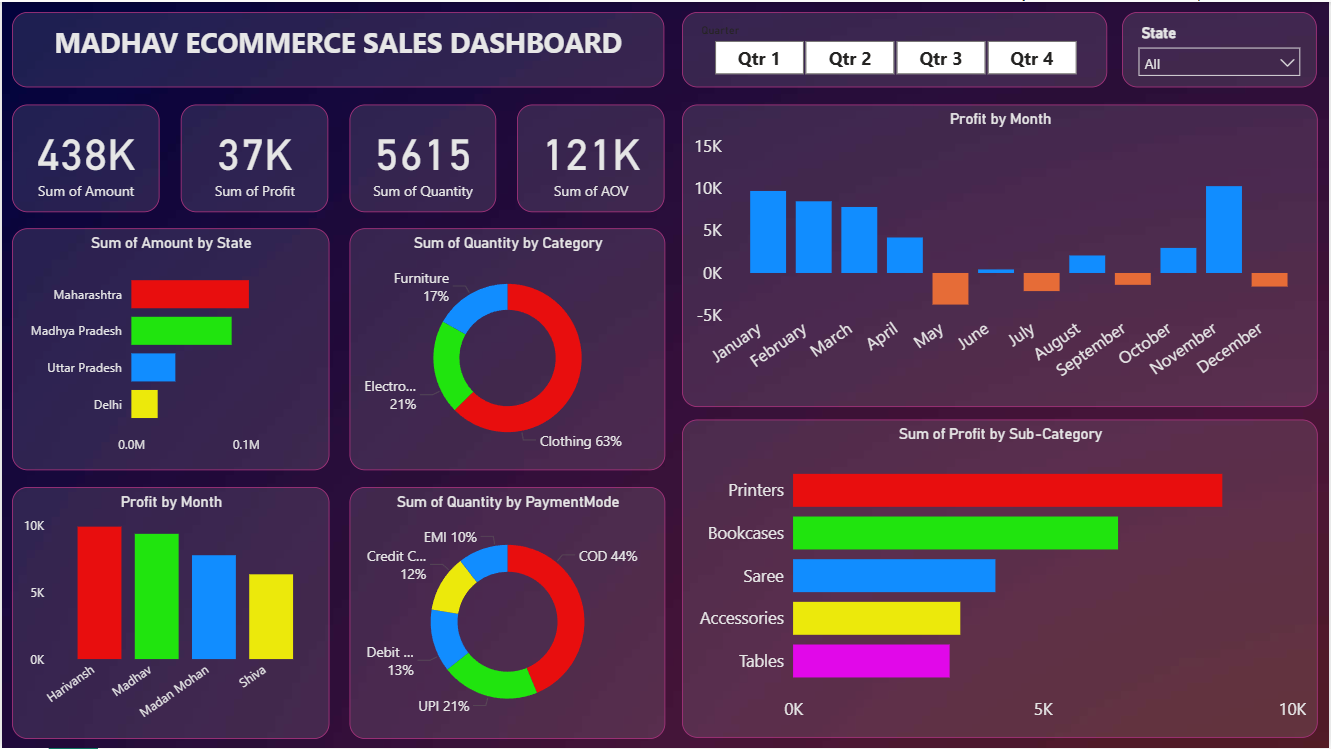

The page's visual inventory and layout, read from the dashboard file:
{"tool":"powerbi","page":{"name":"Page 1","canvas":[1280,720],"ordinal":0},"visuals":[{"type":"textbox","box":[9.6,9.6,629.8,72.7],"z":0},{"type":"columnChart","title":"Profit by Month","fields":{"Category":["Orders.Order Date.Variation.Date Hierarchy.Month"],"Y":["Details.Profit"]},"box":[655.9,98.8,613.4,292.3],"z":1000},{"type":"barChart","fields":{"Category":["Details.Sub-Category"],"Y":["Details.Profit"]},"box":[655.9,403.4,613.4,307.4],"z":2000},{"type":"donutChart","fields":{"Category":["Details.Category"],"Y":["Details.Quantity"]},"box":[334.8,218.2,304.6,233.3],"z":3000},{"type":"donutChart","fields":{"Category":["Details.PaymentMode"],"Y":["Details.Quantity"]},"box":[334.8,467.9,304.6,242.9],"z":4000},{"type":"card","fields":{"Values":["Details.Amount"]},"box":[9.6,98.8,142.7,104.3],"z":5000},{"type":"card","fields":{"Values":["Details.Quantity"]},"box":[334.8,98.8,141.3,104.3],"z":6000},{"type":"card","fields":{"Values":["Details.Profit"]},"box":[172.9,98.8,142.7,104.3],"z":7000},{"type":"card","fields":{"Values":["Details.AOV"]},"box":[496.7,98.8,142.7,104.3],"z":8000},{"type":"barChart","fields":{"Category":["Orders.State"],"Y":["Details.Amount"]},"box":[9.6,218.2,306,233.3],"z":9000},{"type":"columnChart","title":"Profit by Month","fields":{"Category":["Orders.CustomerName"],"Y":["Details.Amount"]},"box":[9.6,467.9,306,242.9],"z":10000},{"type":"slicer","fields":{"Values":["Orders.Order Date.Variation.Date Hierarchy.Quarter"]},"box":[655.9,9.6,410.3,72.7],"z":11000},{"type":"slicer","fields":{"Values":["Orders.State"]},"box":[1081.3,9.6,188,72.7],"z":12000}]}

Visuals, with their boxes in screenshot pixels (x1, y1, x2, y2), scaled from the page's 1280x720 canvas onto the 1331x749 screenshot:
textbox: 10, 10, 665, 86
"Profit by Month" columnChart: 682, 103, 1320, 407
barChart - Details.Sub-Category x Details.Profit: 682, 420, 1320, 739
donutChart - Details.Category x Details.Quantity: 348, 227, 665, 470
donutChart - Details.PaymentMode x Details.Quantity: 348, 487, 665, 739
card - Details.Amount: 10, 103, 158, 211
card - Details.Quantity: 348, 103, 495, 211
card - Details.Profit: 180, 103, 328, 211
card - Details.AOV: 516, 103, 665, 211
barChart - Orders.State x Details.Amount: 10, 227, 328, 470
"Profit by Month" columnChart: 10, 487, 328, 739
slicer - Orders.Order Date.Variation.Date Hierarchy.Quarter: 682, 10, 1109, 86
slicer - Orders.State: 1124, 10, 1320, 86
